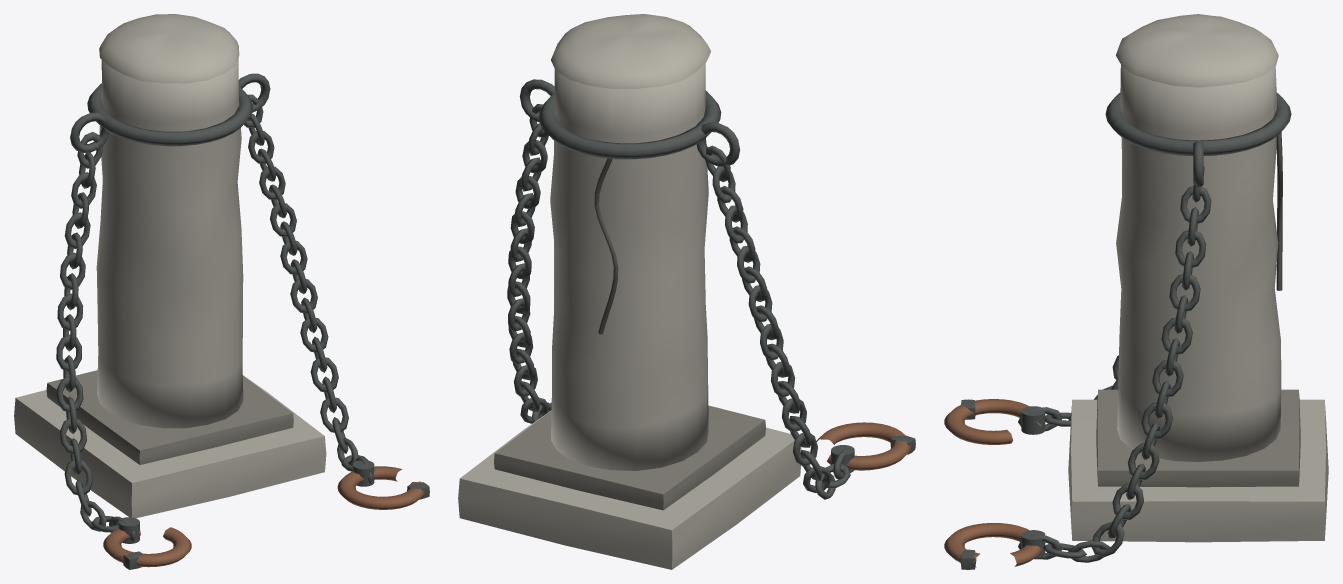
File: detail_manacle_post.glb
The picture shows the model from 3 angles, left to right: view 1: azimuth 30°, elevation 25°; view 2: azimuth 150°, elevation 25°; view 3: azimuth 270°, elevation 25°; orthographic projection. The views are drawn at different scales.
Visible parts, largest first — view 1: stone, metal; view 2: stone, metal; view 3: stone, metal.
Boxes of the visible parts, x1,y1,x2,y2 form: stone: [14, 14, 326, 518]; metal: [56, 73, 429, 569]; stone: [458, 14, 801, 569]; metal: [507, 79, 915, 499]; stone: [1068, 14, 1328, 542]; metal: [944, 92, 1291, 569].
Bounding box in the file's own units: 0.9 × 1.2 × 0.9.
